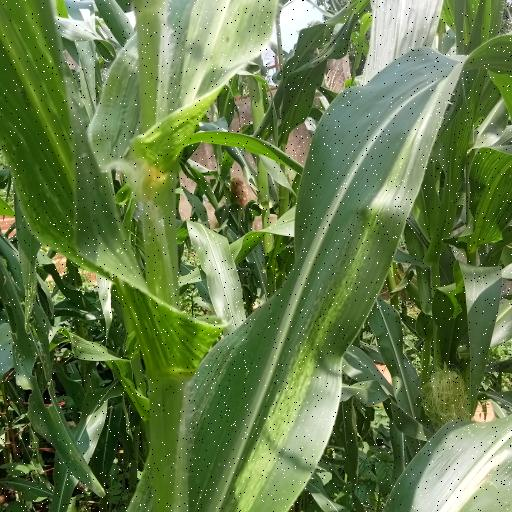Corn_Streak: (145, 0, 466, 509)
